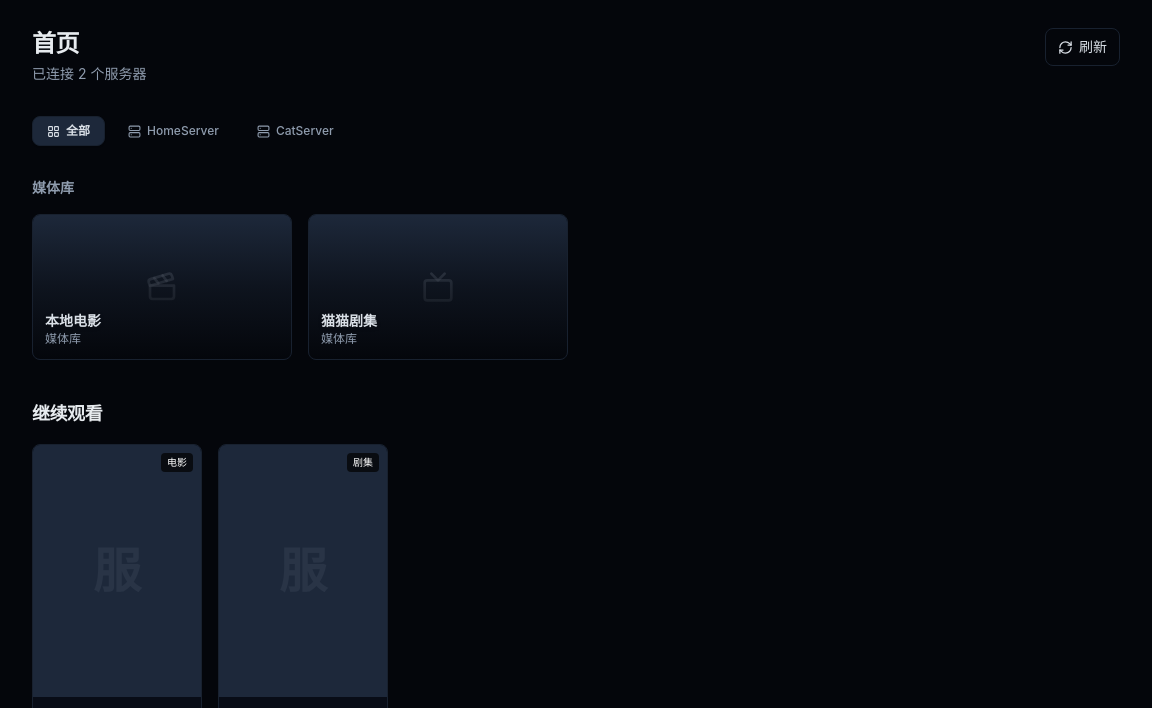
Test: Home server switching and on-demand library loading › switches to a specific server on click, fetches only that server and filters content
Expected: the navigation bar named "服务端切换" is shown, left=32, top=116, right=349, bottom=146
Note: 点击切换到 CatServer (id: 2)
Click the tab "CatServer".
click(295, 131)  # box left=242, top=116, right=349, bottom=146
(page scrolled)
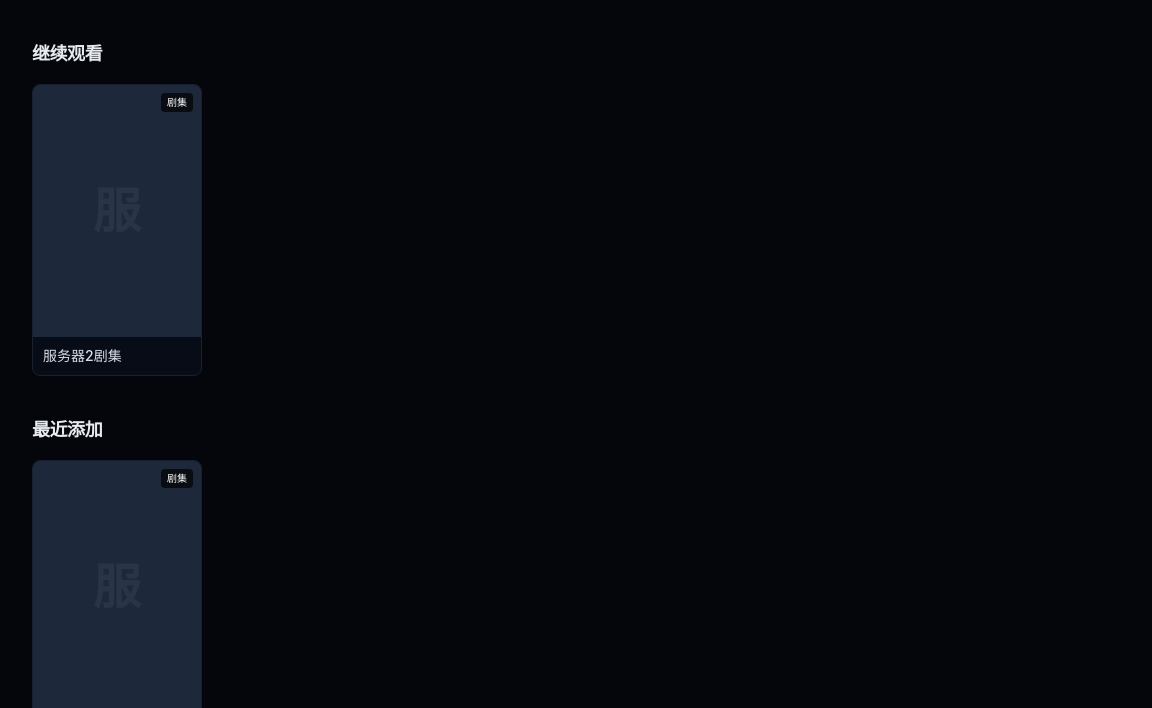
Expected: the heading "服务器2剧集" is shown, left=43, top=347, right=122, bottom=364
Expected: the button "本地电影" is gone
